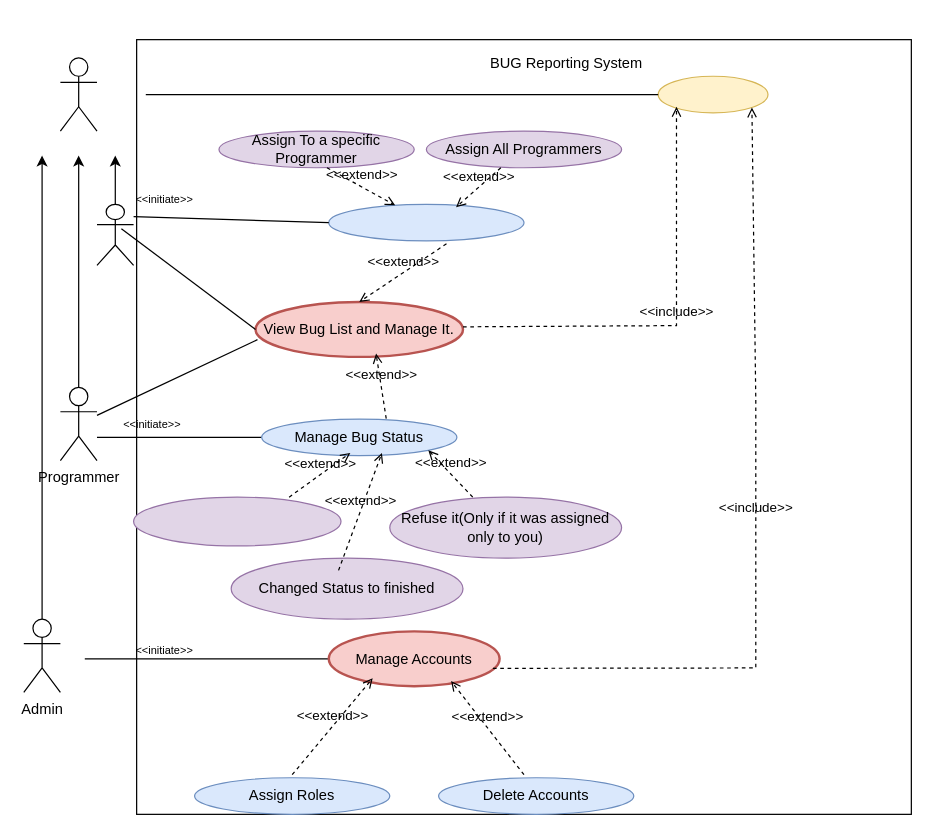
The diagram is 932 pixels wide and 836 high, and some of its shapes have lost their labels. The shapes that lost their labels are listed below. From the top down, each one's box as (x1, y1, x2, y2) in pixels, then its label:
(59, 57, 97, 131): Utilizator
(657, 75, 768, 113): Login
(96, 203, 134, 265): Tester
(328, 203, 524, 241): Add a Bug
(132, 496, 341, 546): Accept It/Change status to In progress
